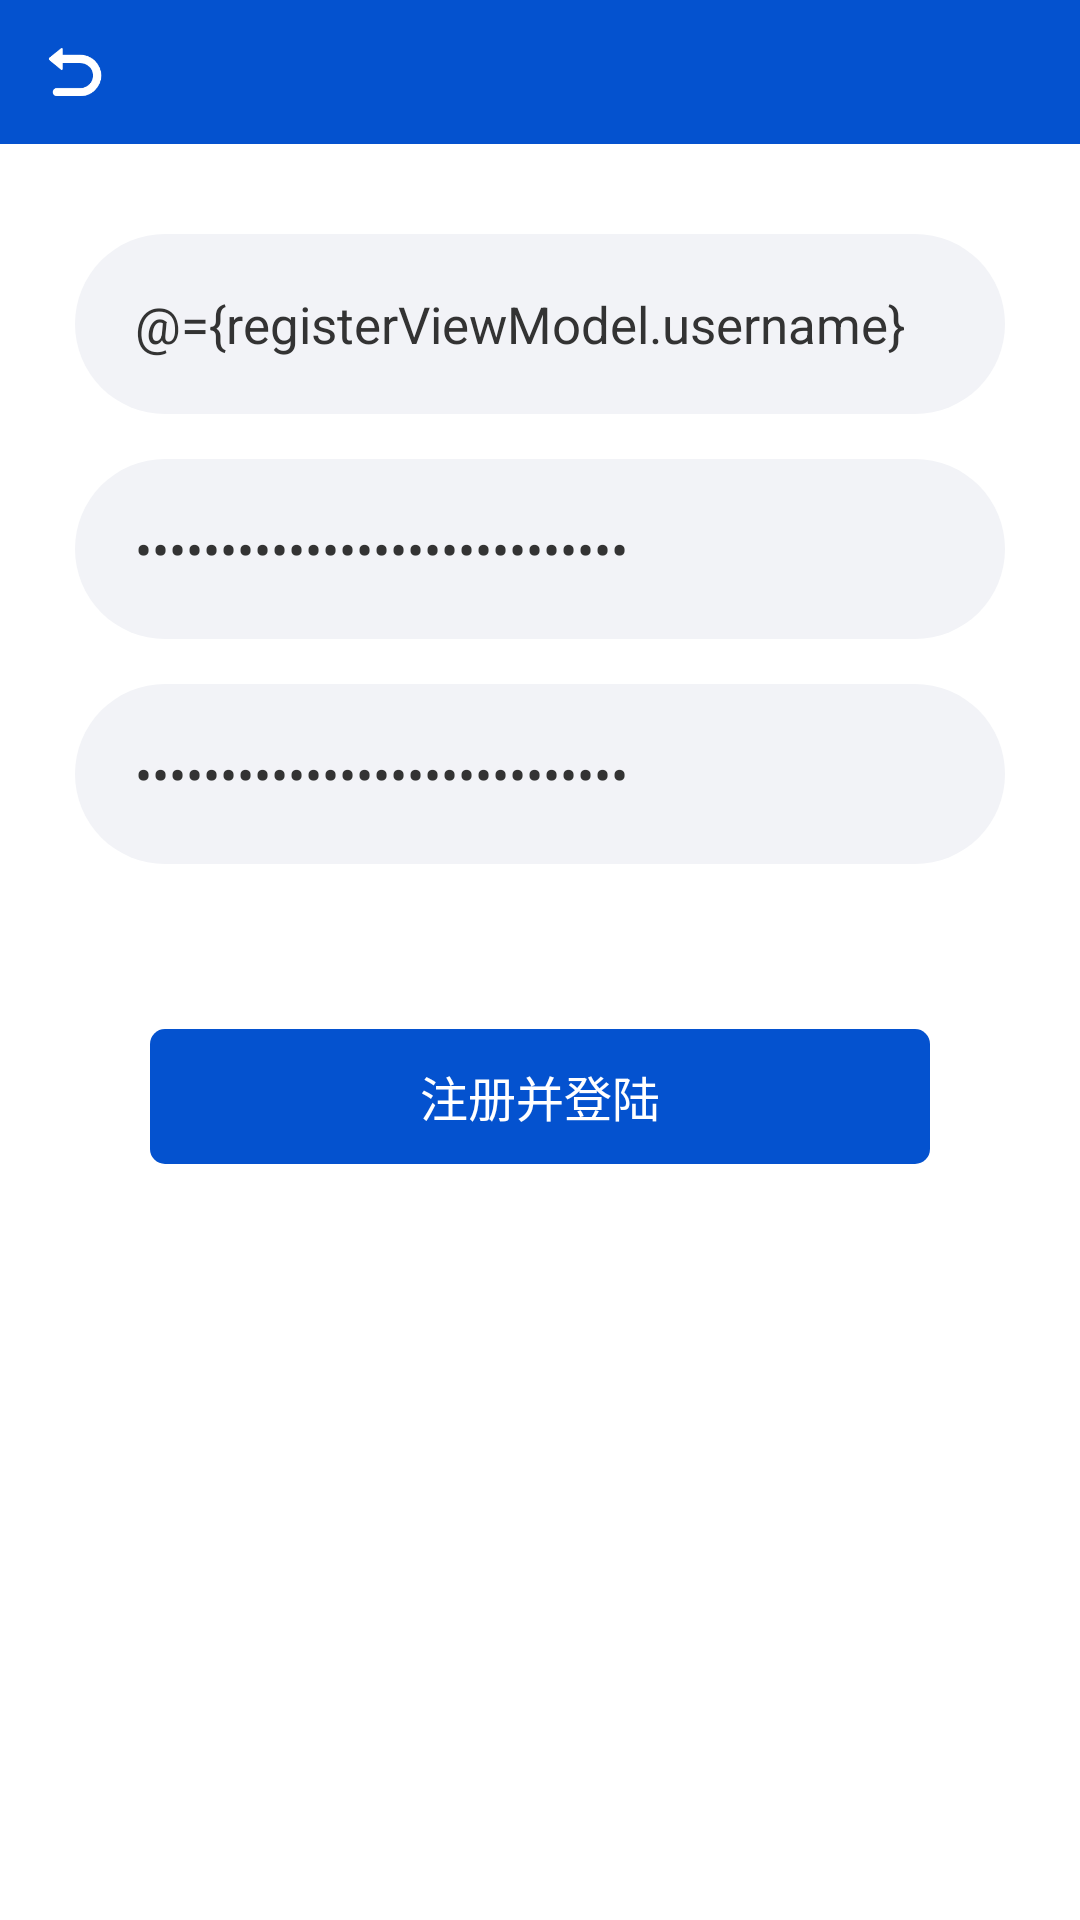

Where to tap for icons on this 1080 x 1920 app screen, as [x,y]:
back arrow: [75,72]
